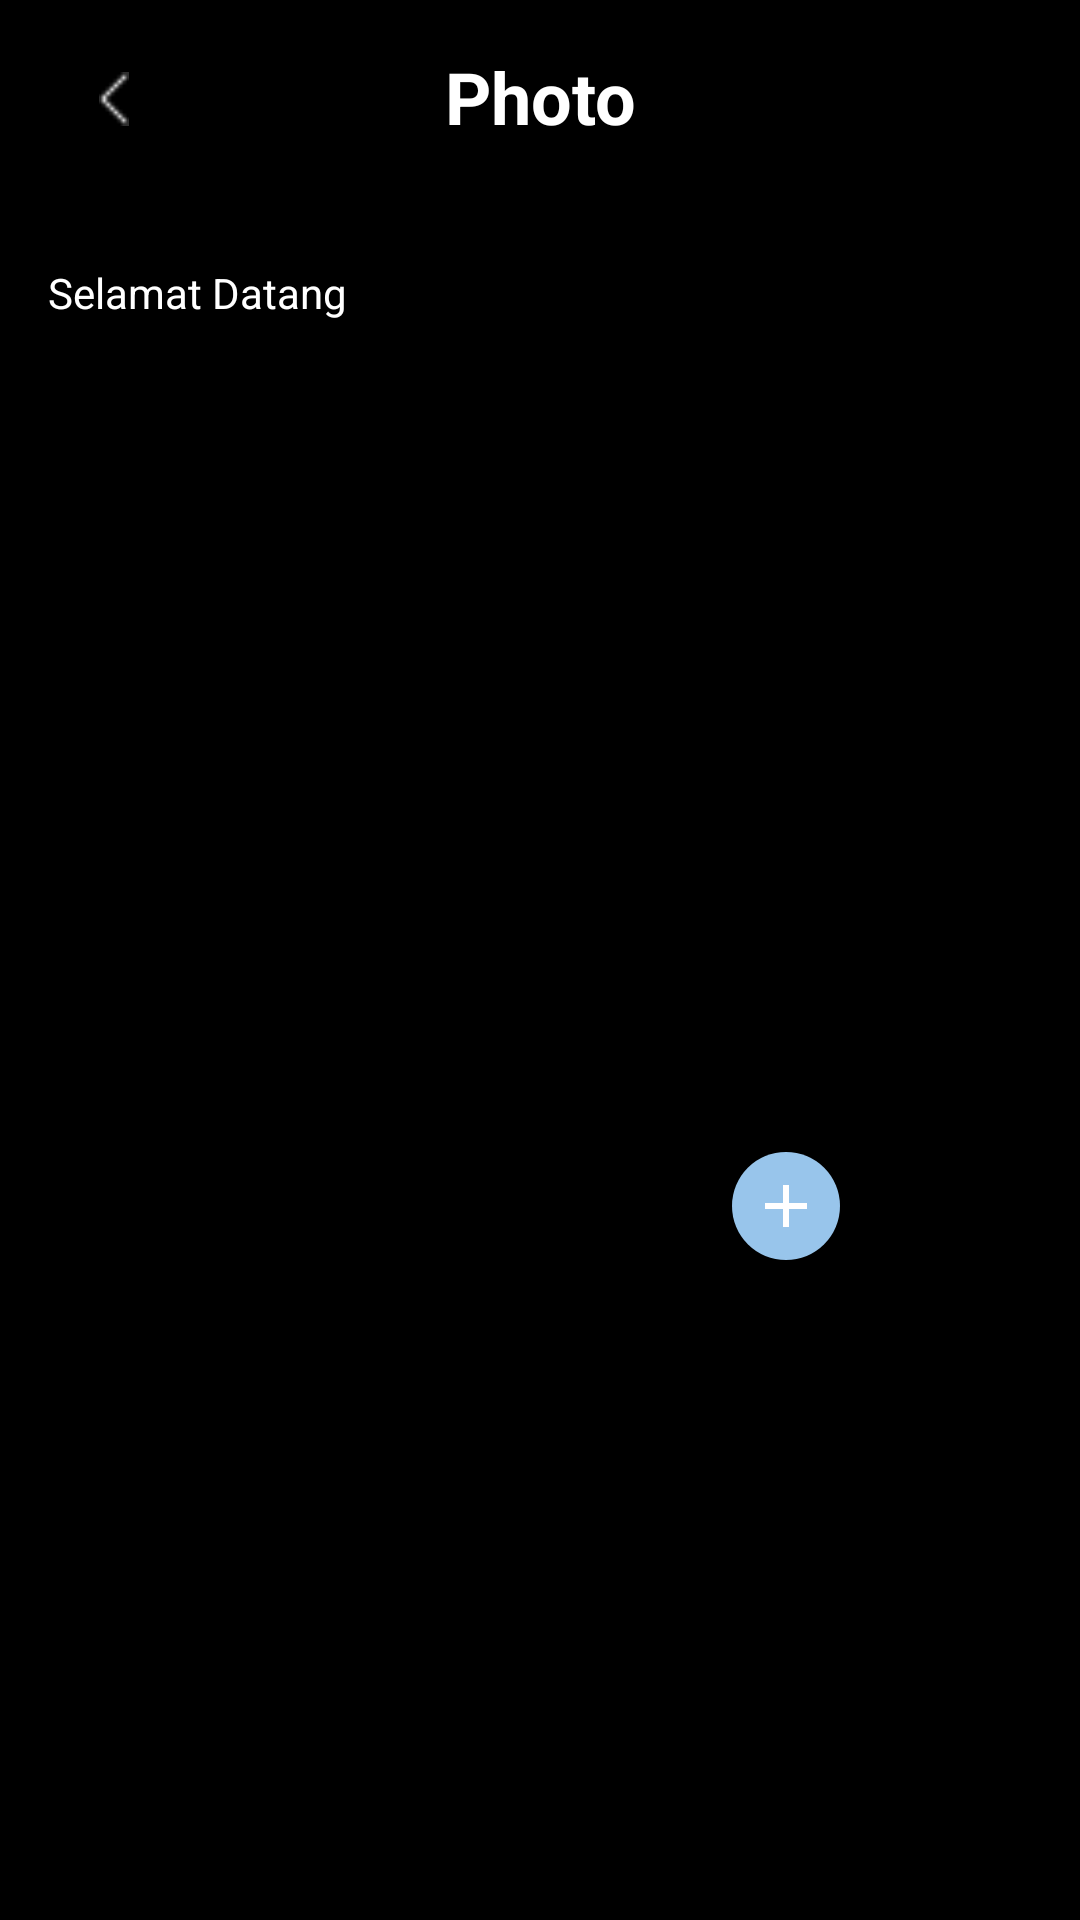

Icons on this 1080w x 1920h Android screen, each with its box as {"x1": x1, "y1": y1, "x2": x2, "y2": y2}:
back: {"x1": 99, "y1": 72, "x2": 129, "y2": 126}
